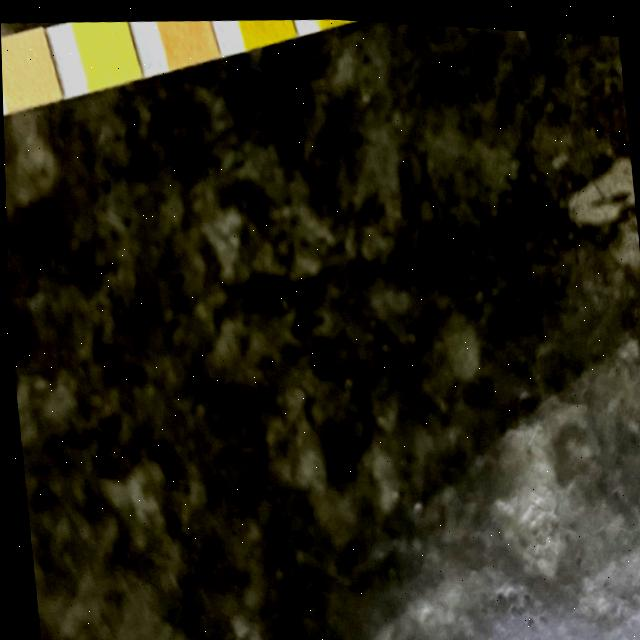Blood: (239, 13, 284, 34)
Protein: (77, 17, 132, 79)
Urobilinogen: (1, 34, 51, 101)
pH: (162, 15, 210, 58)
